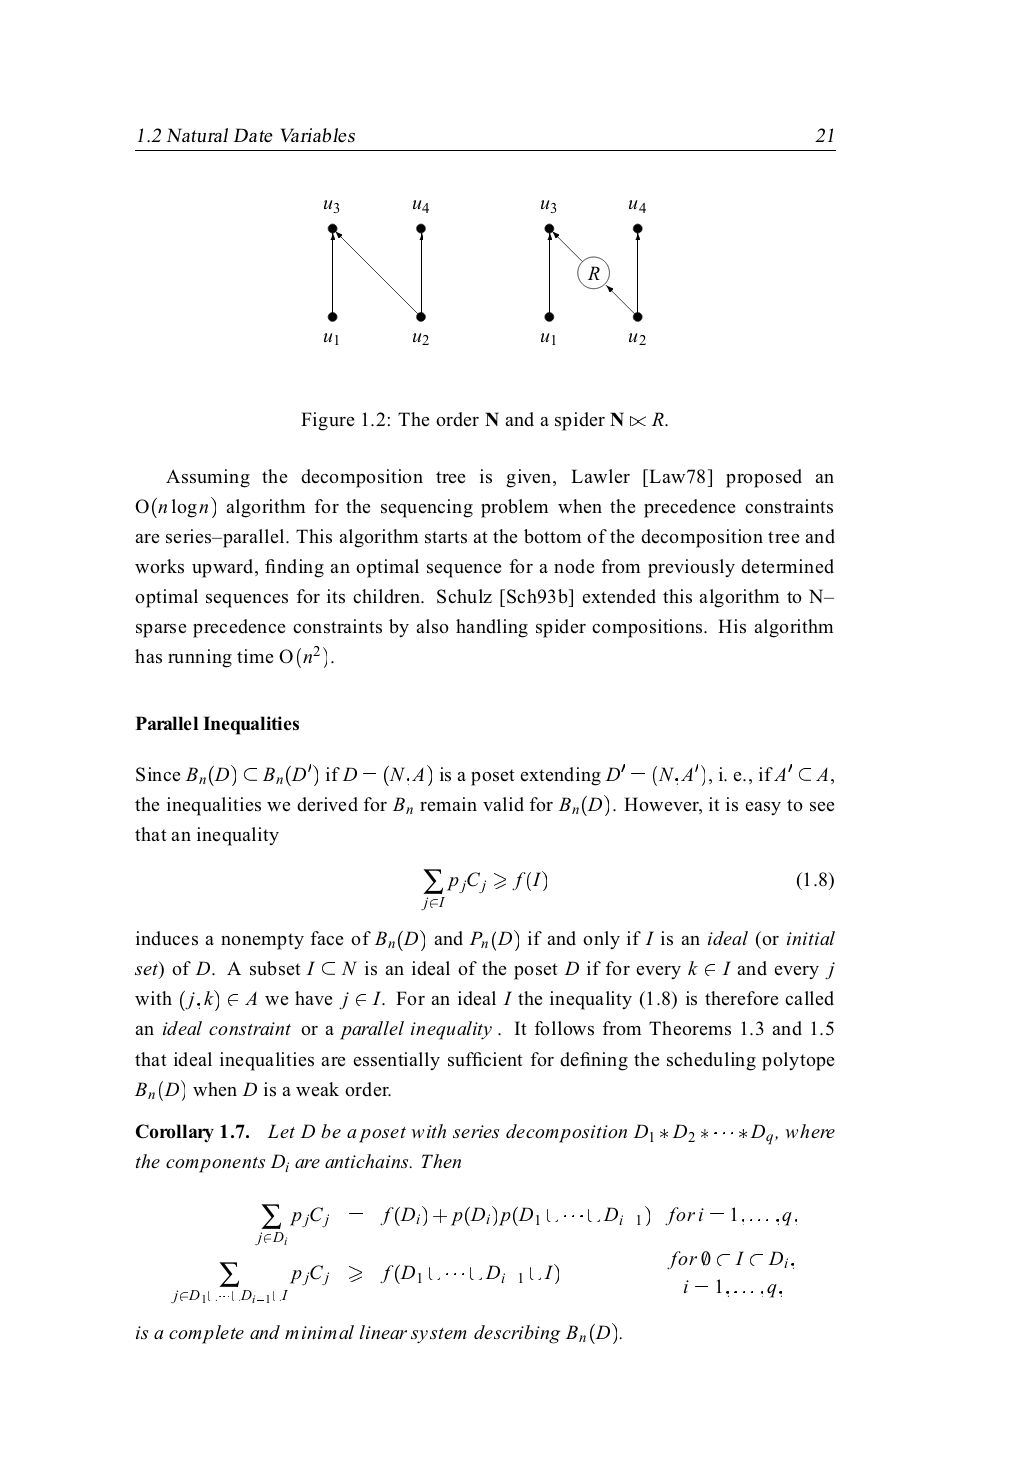figure: (322, 200, 645, 344)
formula: (171, 1250, 793, 1303), (256, 1204, 796, 1245), (421, 868, 834, 911)
